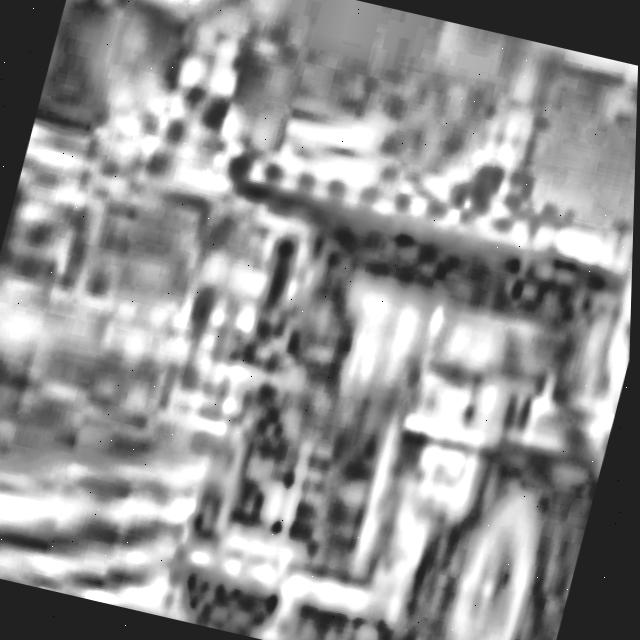dump_truck: (102, 85, 638, 640)
